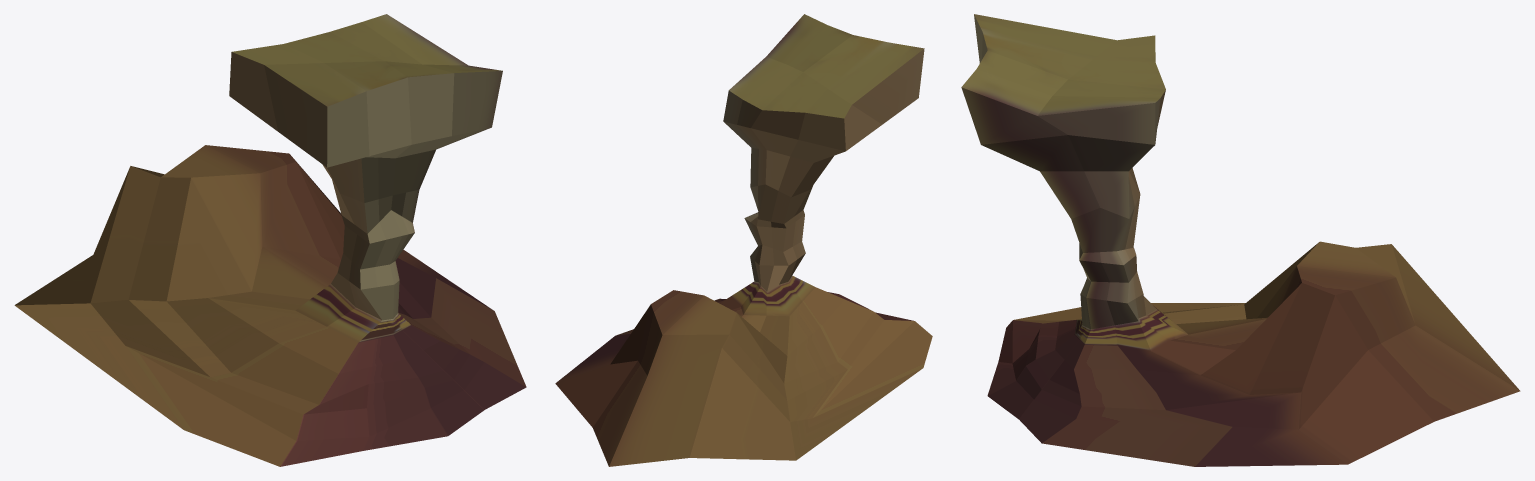
File: valledelaluna.fbx
The picture shows the model from 3 angles, left to right: view 1: azimuth 30°, elevation 25°; view 2: azimuth 150°, elevation 25°; view 3: azimuth 270°, elevation 25°; orthographic projection. The views are drawn at different scales.
Visible parts, largest first — view 1: vdll; view 2: vdll; view 3: vdll.
Boxes of the visible parts, x1,y1,x2,y2 form: vdll: (14,14,526,466); vdll: (555,14,932,466); vdll: (961,14,1520,466).
Size of the model in its own units: 6077 by 5904 by 9115.
